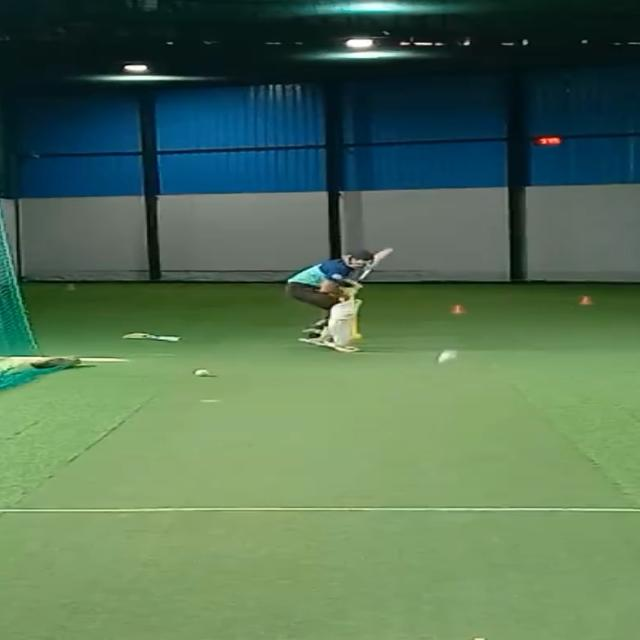ball: (432, 350, 458, 368), (194, 367, 213, 380)
